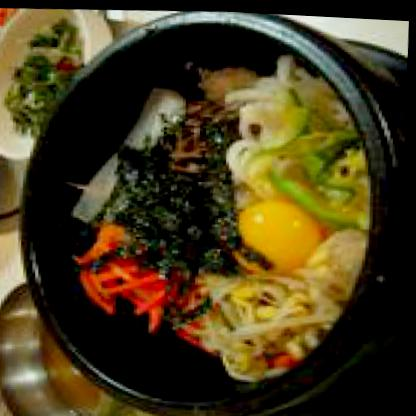bibimbap: (32, 17, 415, 415)
